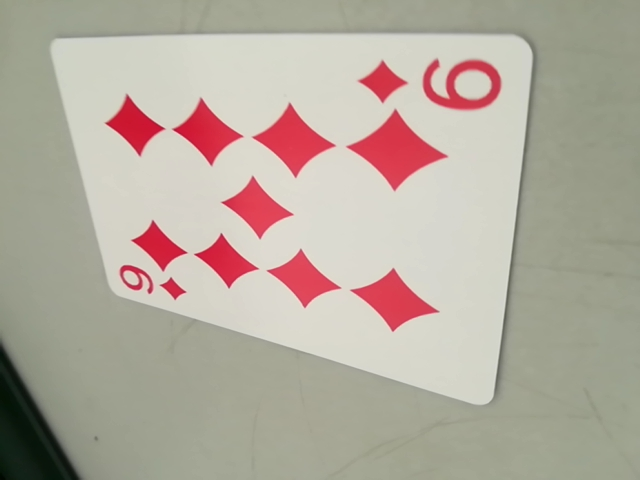fk 9: (359, 52, 505, 118), (113, 261, 193, 308)
